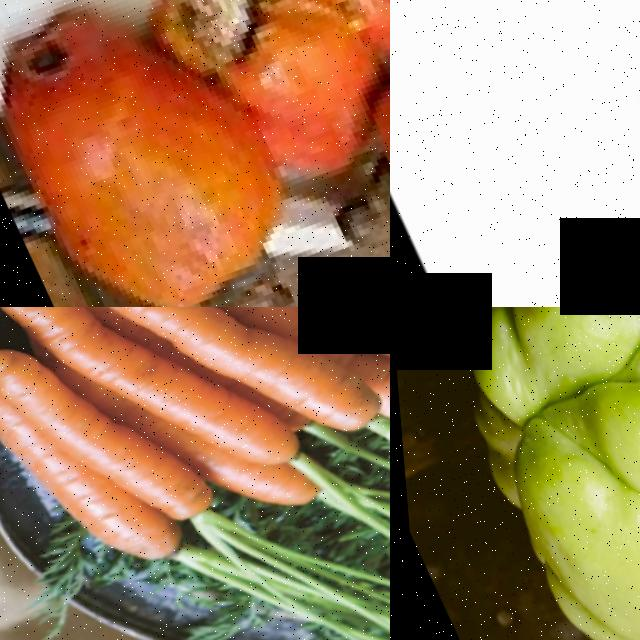carrot: (420, 0, 640, 275), (45, 317, 214, 545), (96, 307, 256, 494), (166, 307, 370, 453), (10, 394, 127, 587)
cashew: (83, 0, 273, 86), (301, 135, 390, 297), (180, 251, 290, 307)
chayote: (392, 307, 640, 640)
